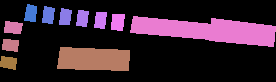parkingspot: (130, 16, 212, 39), (209, 18, 275, 46), (57, 47, 129, 70), (4, 21, 22, 33), (0, 56, 16, 69), (111, 14, 124, 30), (24, 4, 36, 21), (42, 6, 54, 23), (2, 39, 18, 51), (59, 8, 71, 24), (76, 10, 88, 26), (94, 12, 106, 28)
